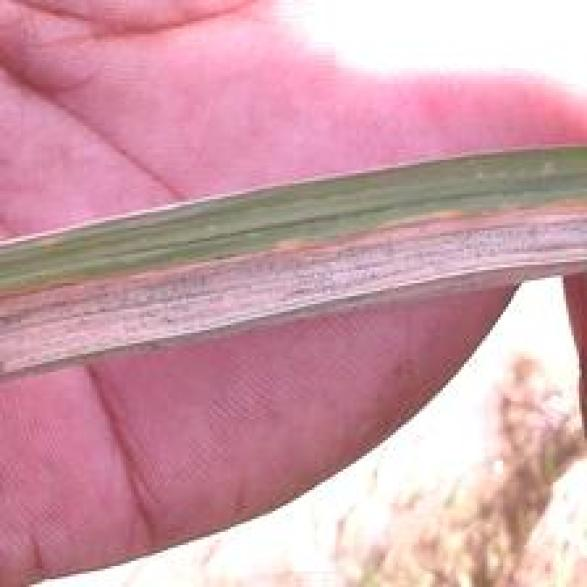Bacteria_Leaf_Blight: (8, 215, 566, 335)
